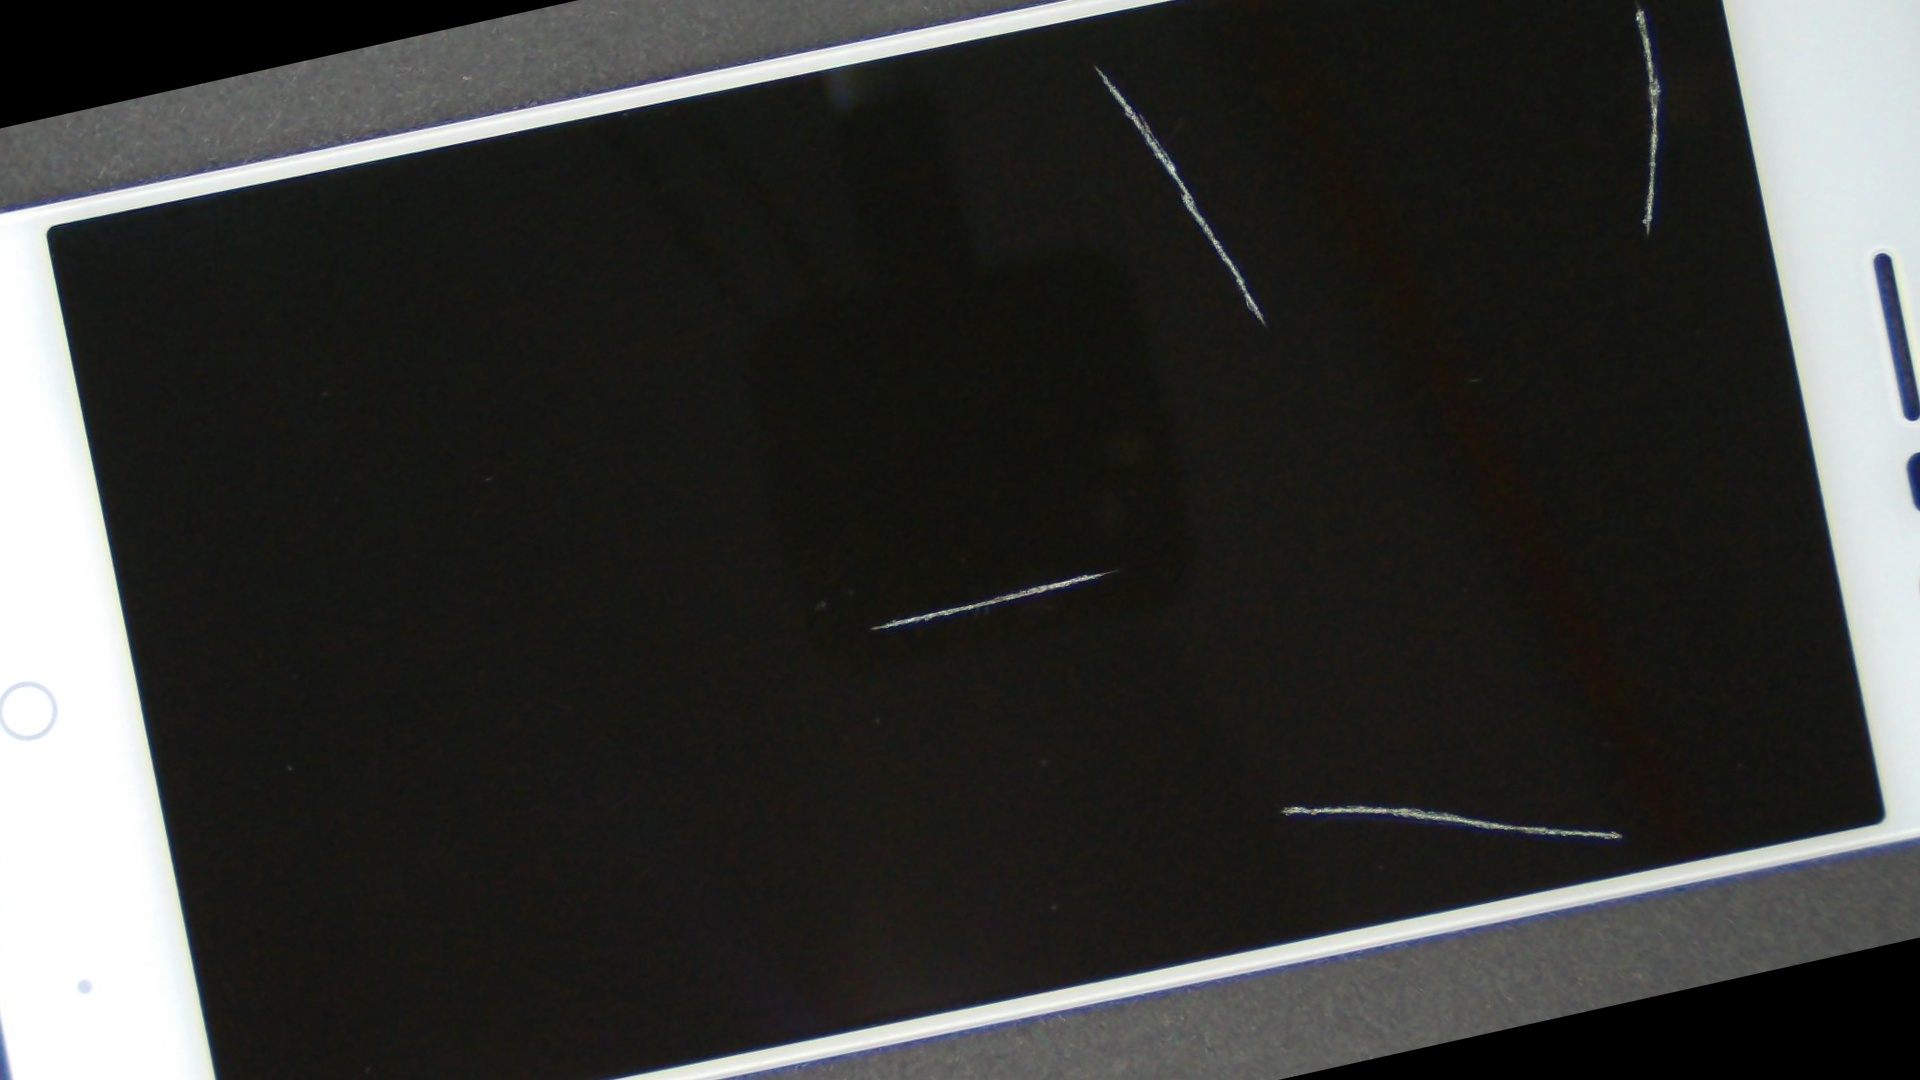oil: (539, 204, 1920, 1080), (407, 141, 1636, 1038), (444, 0, 1746, 293), (715, 0, 1920, 314), (12, 599, 382, 1080)
